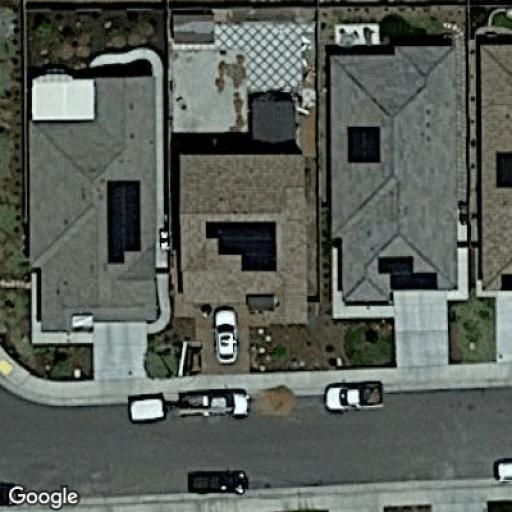solar-panel: (204, 219, 279, 273), (104, 178, 144, 265), (377, 254, 440, 292), (346, 124, 382, 164), (494, 148, 512, 192), (499, 268, 512, 291)
